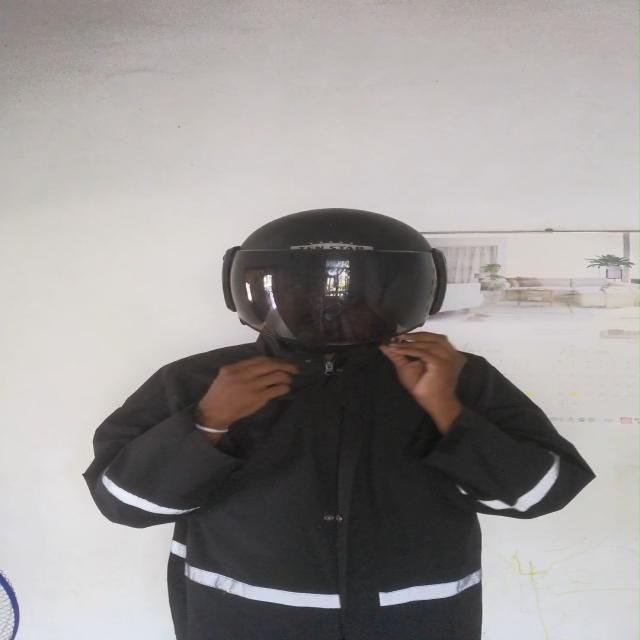Helmet_Wearer: (197, 201, 471, 357)
Jacket_Wearer: (87, 326, 591, 640)
Person: (71, 208, 599, 640)
